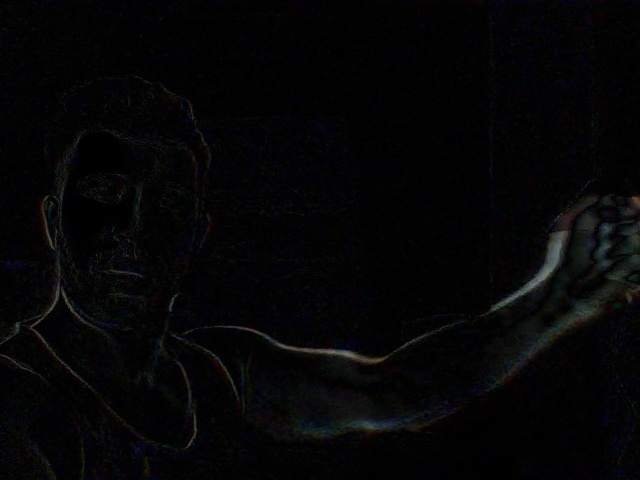hand_fi: (544, 181, 640, 322)
